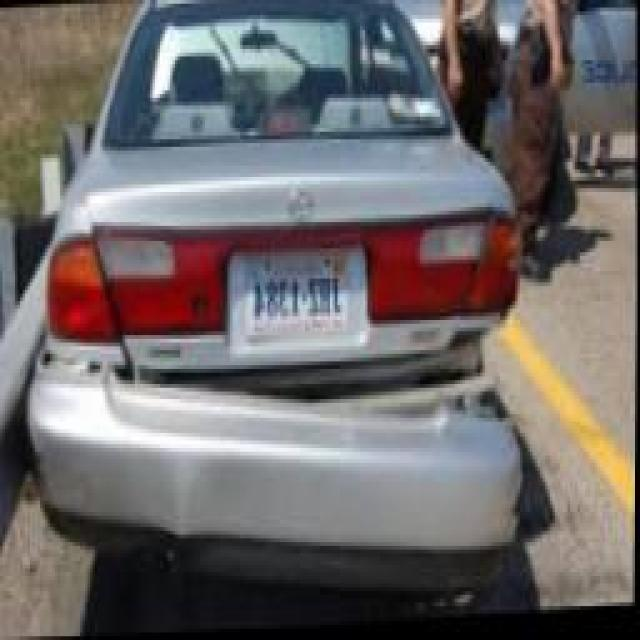Bumper: (36, 317, 523, 595)
